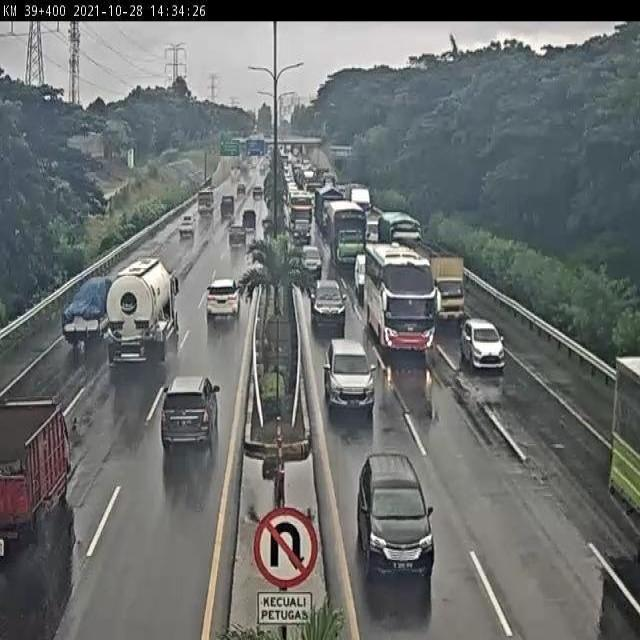Bus: (363, 242, 438, 354), (327, 200, 374, 264)
Car: (356, 448, 437, 579), (158, 376, 221, 457), (321, 339, 375, 417), (462, 317, 504, 384), (202, 268, 242, 324), (308, 278, 348, 328), (300, 243, 322, 276), (292, 219, 310, 243), (228, 226, 247, 248), (179, 211, 195, 236), (241, 210, 256, 231)
Truck: (1, 395, 80, 555), (106, 258, 183, 372), (605, 346, 640, 538), (61, 277, 119, 343), (417, 243, 466, 318), (377, 211, 423, 241), (314, 186, 343, 231), (343, 182, 372, 216), (198, 188, 215, 213), (220, 192, 236, 216)
